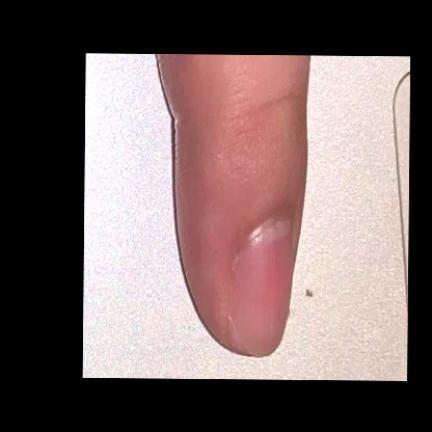Nail: (229, 220, 293, 357)
